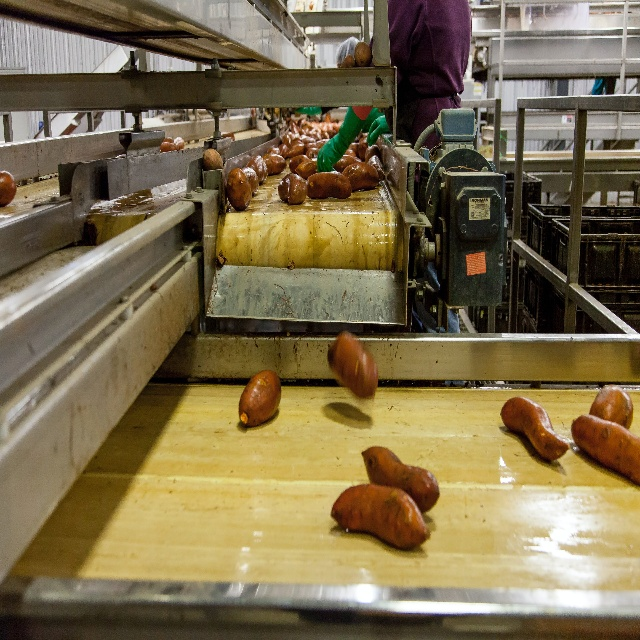Guantes: (316, 105, 367, 172), (367, 114, 391, 147)
